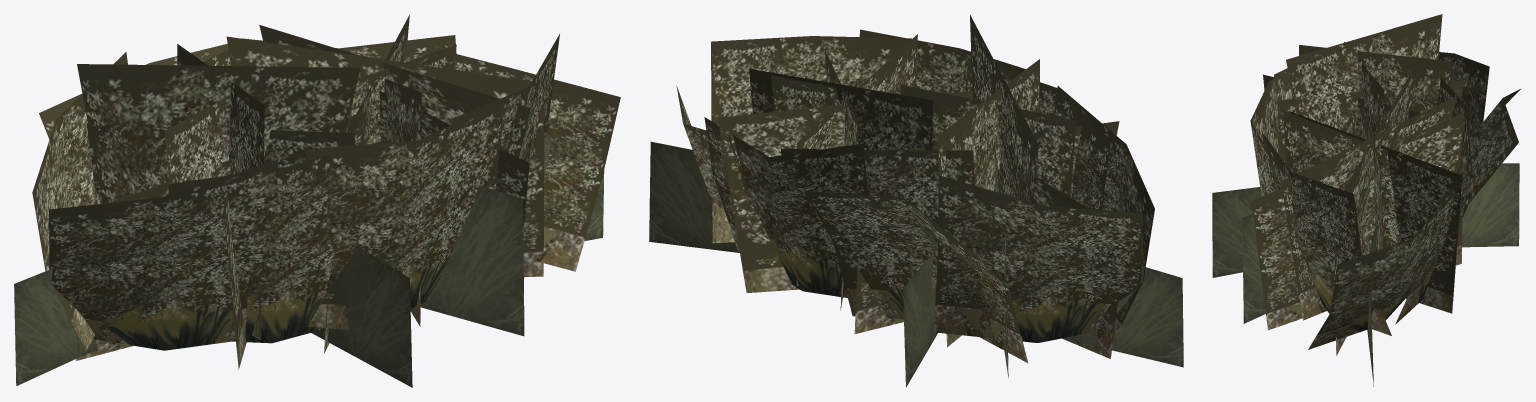
The model's file is pir_m_prp_vol_flower_white_c.fbx.
3 views of the same model, side by side, from view 1: azimuth 30°, elevation 25°; view 2: azimuth 150°, elevation 25°; view 3: azimuth 270°, elevation 25° (orthographic). The views are drawn at different scales.
Parts seen in each view (by area): view 1: flower_plane015, flower_plane013, flower_plane012, flower_plane014, flower_plane017, grass_plane02, flower_plane06, grass_plane05, flower_plane020, grass_plane03, flower_plane011, flower_plane03 (+12 smaller); view 2: flower_plane020, flower_plane021, flower_plane018, flower_plane016, flower_plane05, grass_plane01, flower_plane06, grass_plane03, flower_plane019, flower_plane012, flower_plane010, flower_plane011 (+11 smaller); view 3: flower_plane04, flower_plane017, flower_plane012, flower_plane016, flower_plane05, flower_plane03, flower_plane01, grass_plane04, flower_plane010, grass_plane05, flower_plane021, flower_plane06 (+11 smaller).
Boxes of the visible parts, box(x1,y1,x2,y2) form: flower_plane015: box(49, 159, 277, 350); flower_plane013: box(305, 101, 504, 308); flower_plane012: box(77, 64, 360, 203); flower_plane014: box(168, 139, 391, 343); flower_plane017: box(454, 54, 620, 271); grass_plane02: box(420, 185, 524, 336); flower_plane06: box(226, 36, 544, 277); grass_plane05: box(311, 247, 412, 387); flower_plane020: box(32, 52, 127, 350); grass_plane03: box(14, 268, 97, 385); flower_plane011: box(164, 52, 308, 183); flower_plane03: box(259, 25, 530, 157); flower_plane020: box(933, 175, 1142, 342); flower_plane021: box(804, 191, 1028, 362); flower_plane018: box(704, 117, 868, 297); flower_plane016: box(711, 36, 915, 243); flower_plane05: box(717, 90, 972, 292); grass_plane01: box(649, 141, 739, 252); flower_plane06: box(749, 68, 932, 150); grass_plane03: box(1062, 266, 1183, 367); flower_plane019: box(780, 148, 974, 224); flower_plane012: box(970, 15, 1038, 202); flower_plane010: box(937, 59, 1040, 347); flower_plane011: box(900, 84, 1076, 196); flower_plane04: box(1251, 113, 1463, 330); flower_plane017: box(1308, 190, 1456, 349); flower_plane012: box(1286, 14, 1442, 129); flower_plane016: box(1262, 132, 1391, 335); flower_plane05: box(1290, 111, 1462, 313); flower_plane03: box(1281, 96, 1456, 320); flower_plane01: box(1283, 111, 1400, 250); grass_plane04: box(1462, 163, 1519, 247); flower_plane010: box(1299, 45, 1452, 112); grass_plane05: box(1212, 187, 1261, 277); flower_plane021: box(1461, 89, 1520, 219); flower_plane06: box(1333, 59, 1418, 355).
Size of the model in its own units: 899 by 417 by 536.
Materials: 1 (1 with a texture image).
